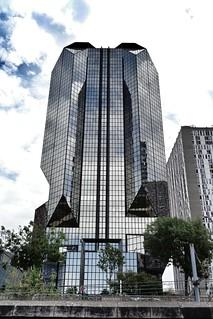building: (27, 37, 176, 298)
